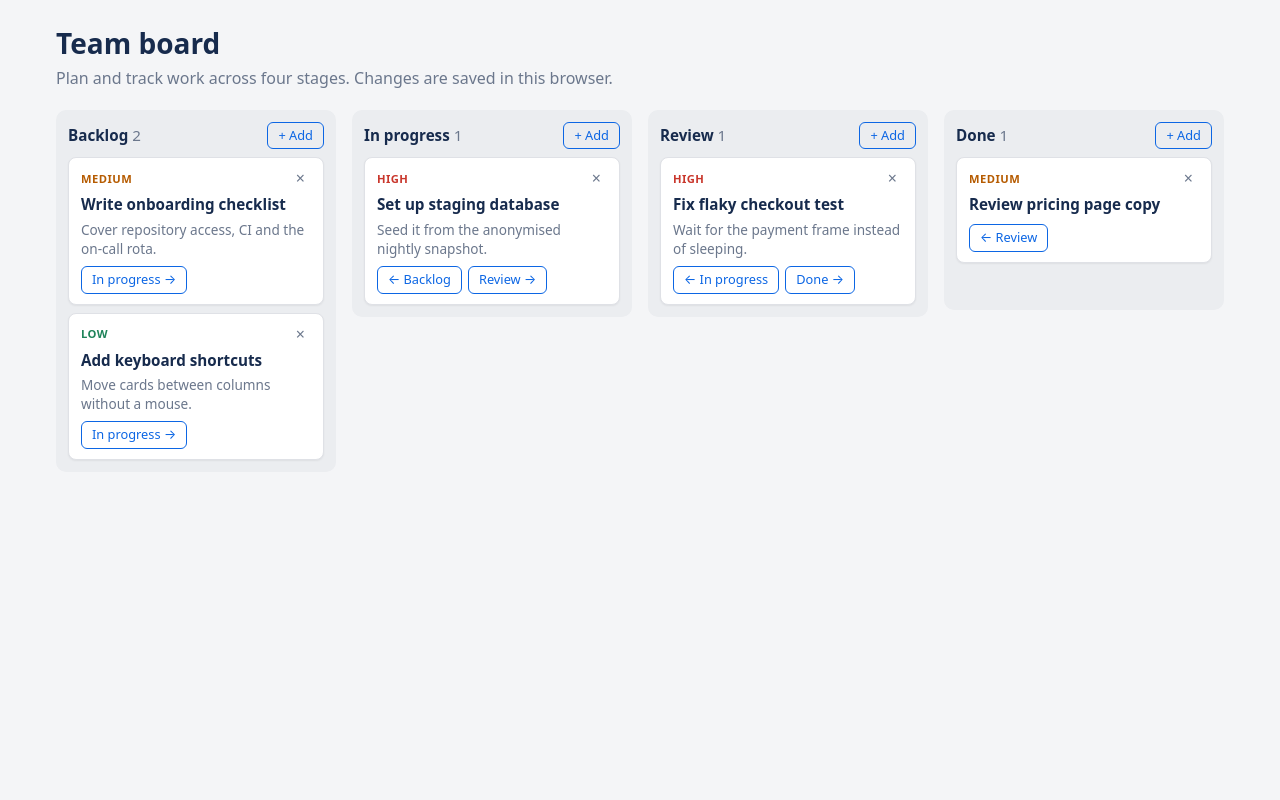
Test case: Board › adds a task from the form and saves it to localStorage
This screenshot has width=1280, height=800.
Click the 1st button "+ Add".
click(296, 136)  # box [267,122,324,150]
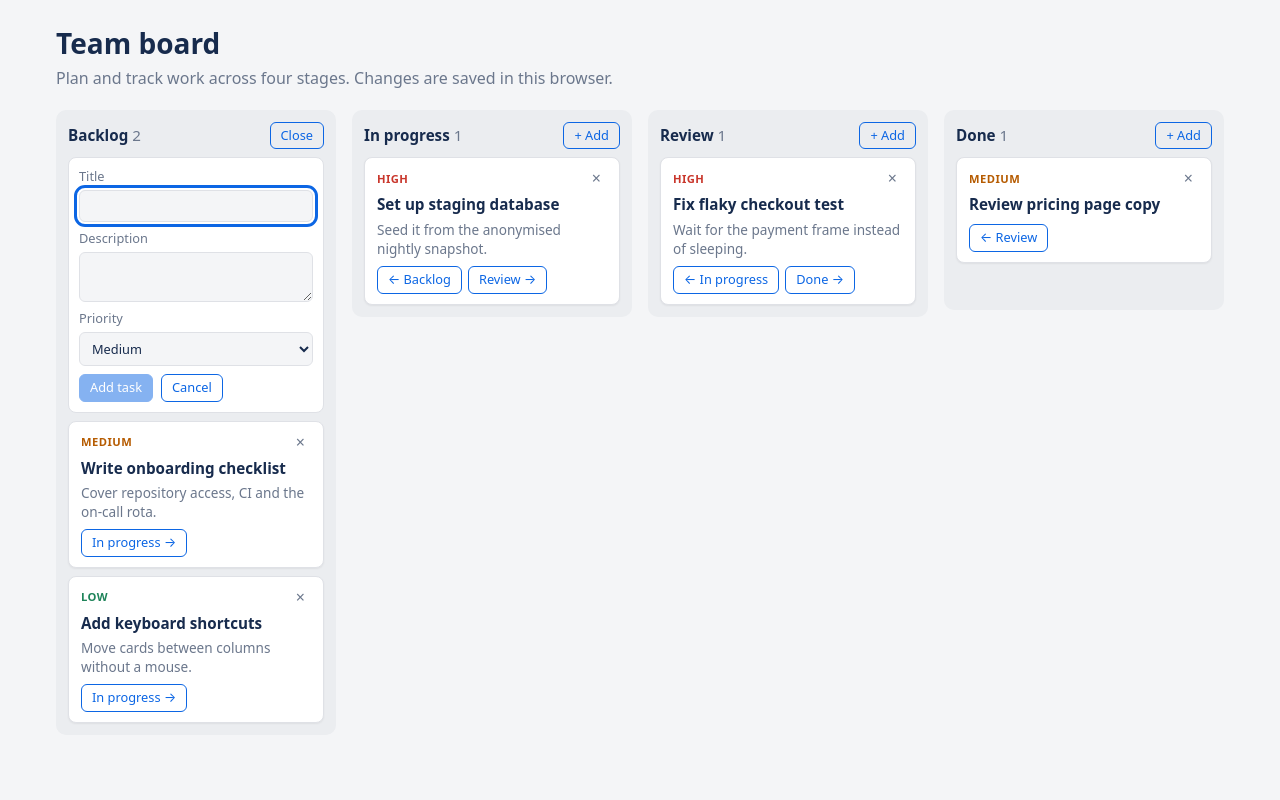
Type "Draft release notes" into the field labelled "Title".
click(196, 206); type("Draft release notes")  # box [79,190,313,222]
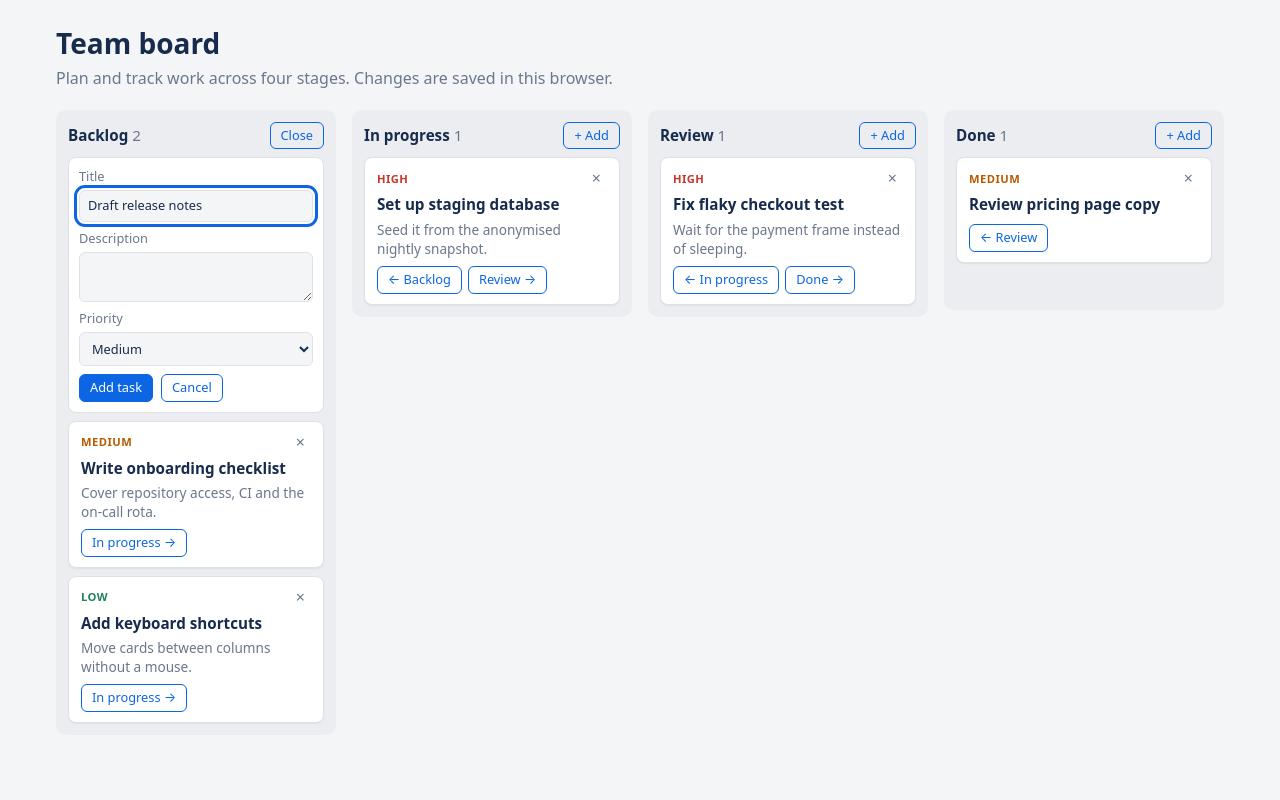
Click the button "Add task".
click(116, 388)  # box [79,374,153,402]
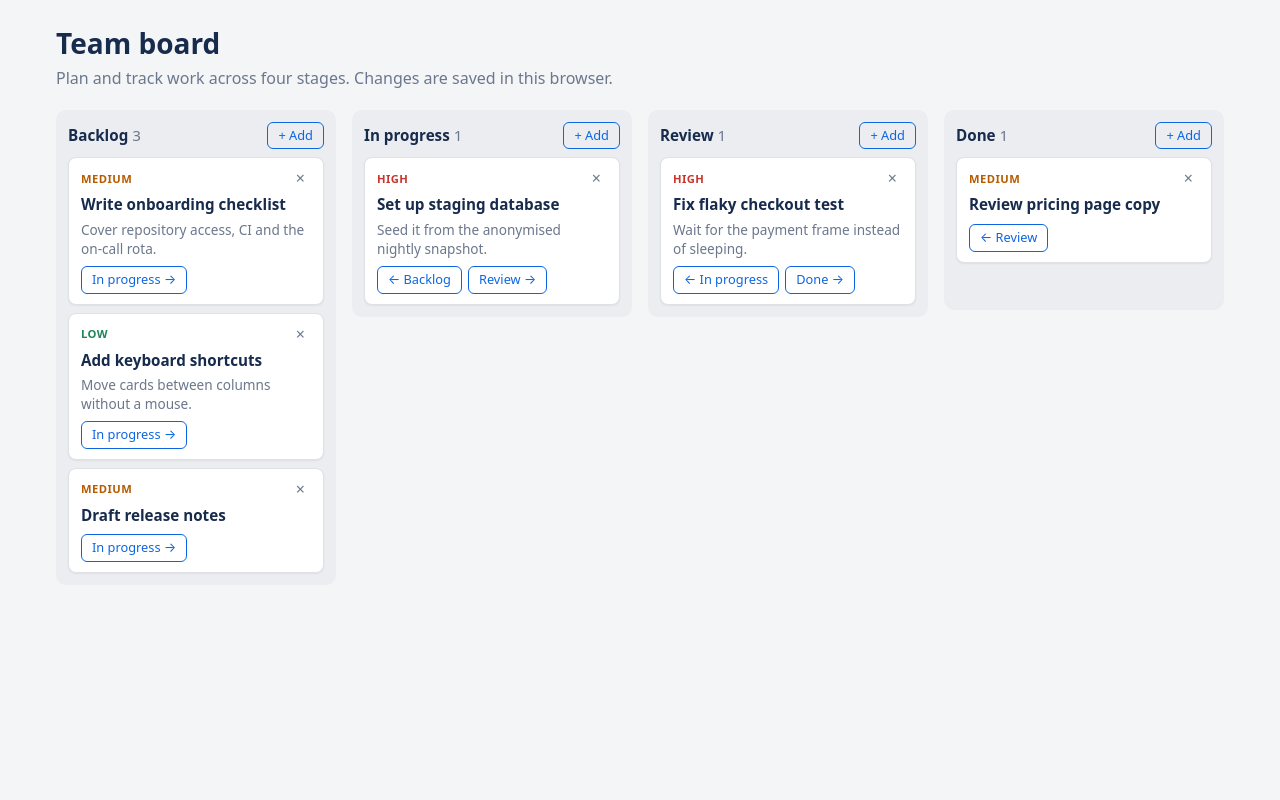
Expected: the heading "Draft release notes" is shown, [81,505,226,525]
